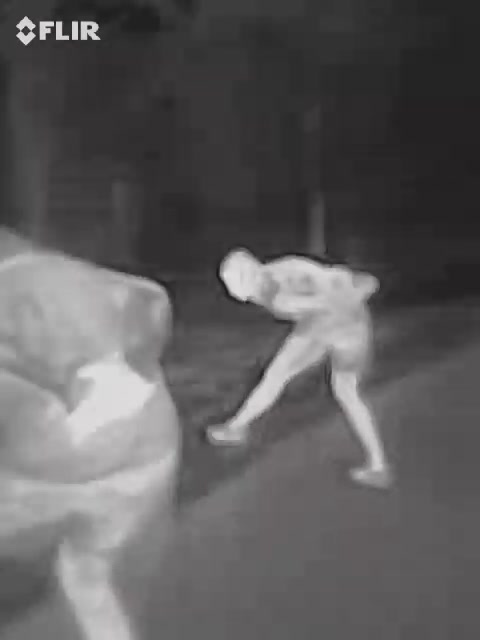head: (218, 241, 268, 309)
